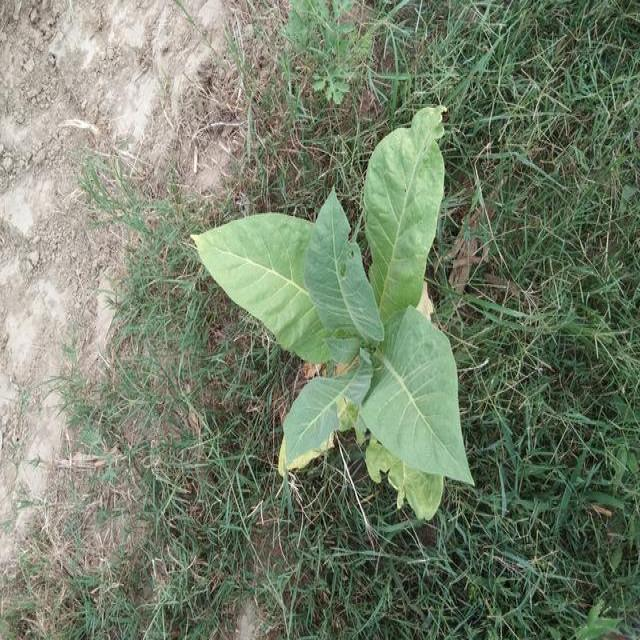crop: (184, 93, 482, 530)
